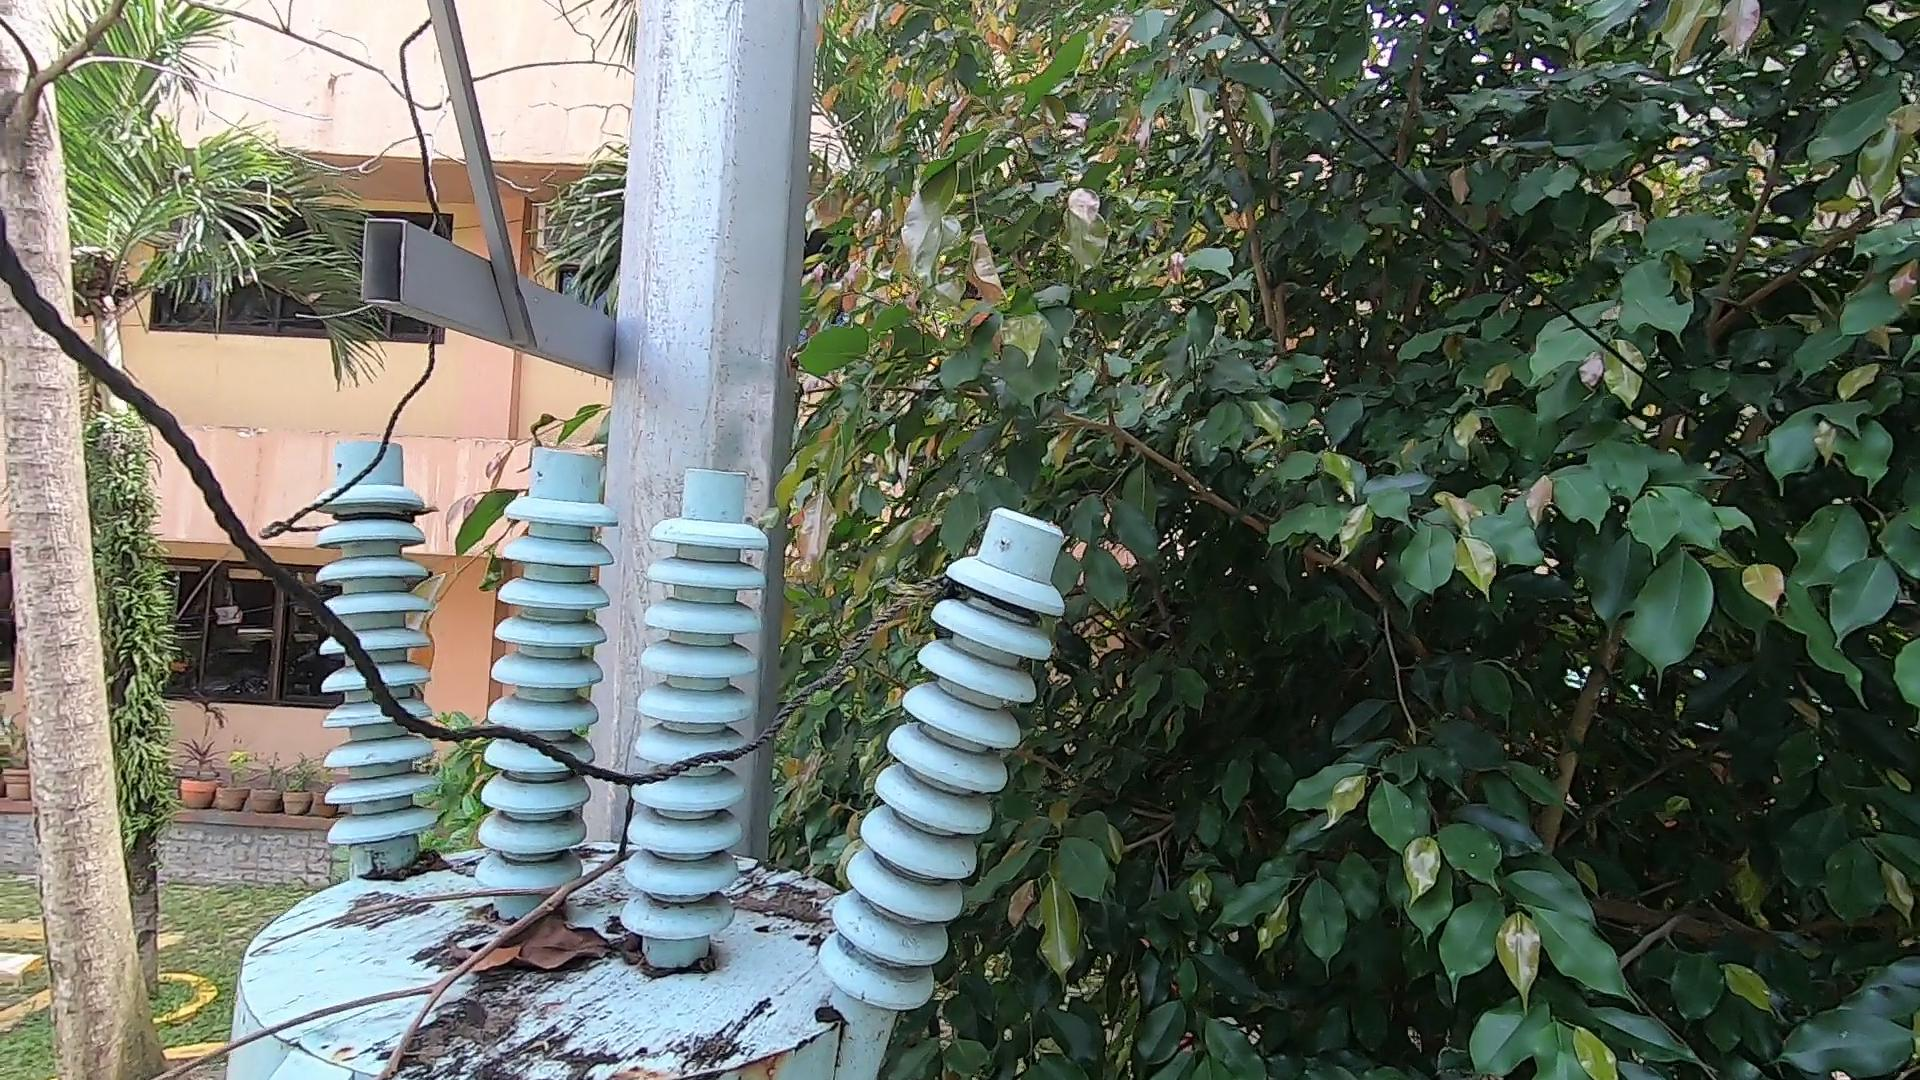leaf: (452, 902, 647, 984), (727, 868, 833, 935), (351, 843, 460, 884)
tree branch: (120, 837, 644, 1080)
